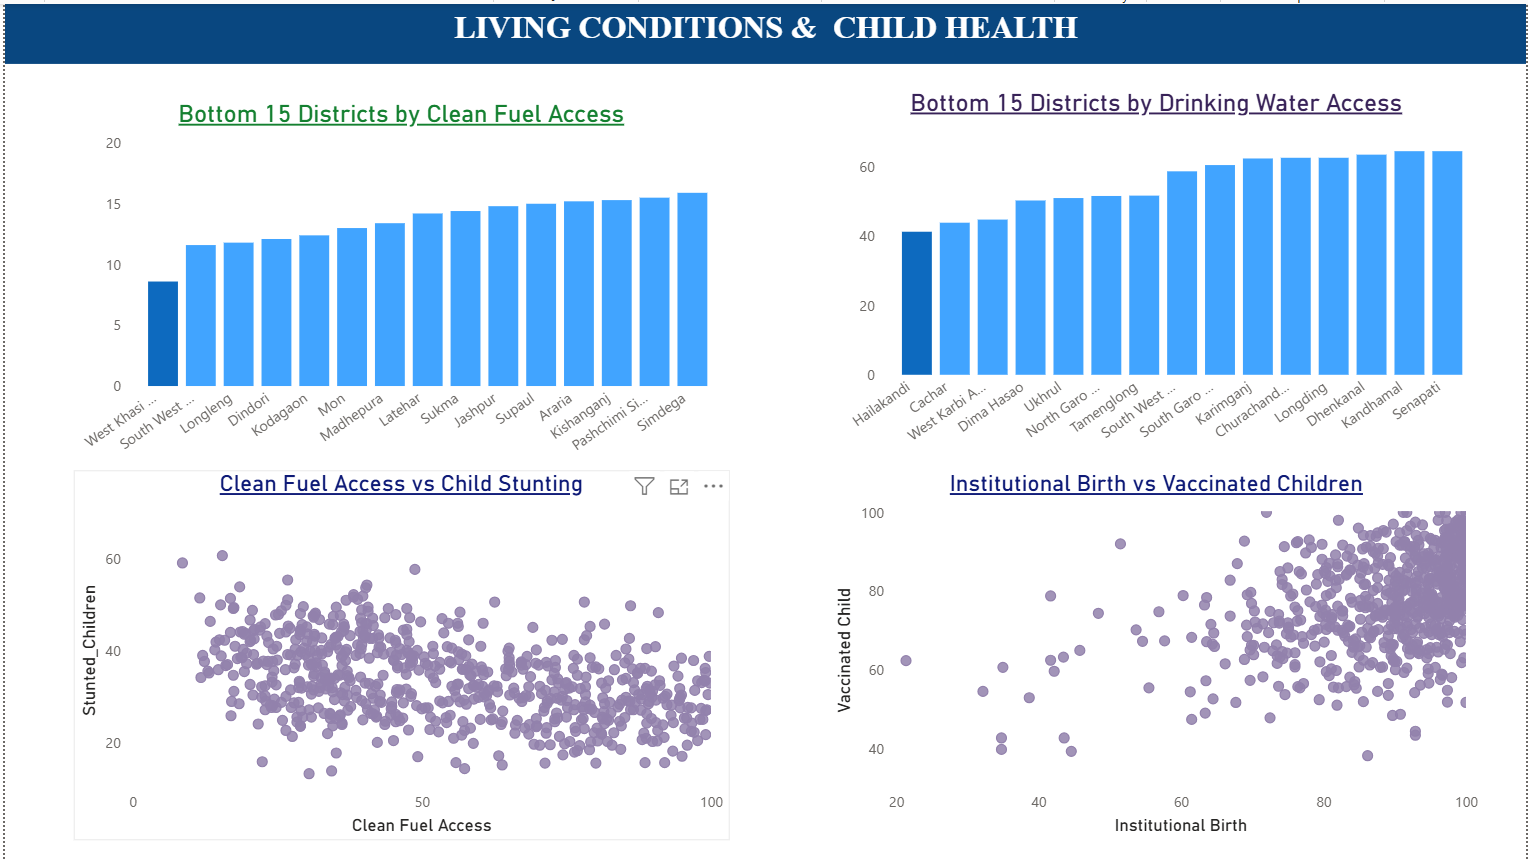

This screenshot's page, from the dashboard's own definition file:
{"tool":"powerbi","page":{"name":"Living Conditions & Child Health","canvas":[1280,720],"ordinal":3},"visuals":[{"type":"textbox","box":[0,0,1280.2,50],"z":0},{"type":"scatterChart","title":"Clean Fuel Access vs Child Stunting","fields":{"Y":["cleaned_data.Stunted_Children"],"X":["cleaned_data.Clean_Fuel"]},"box":[58.1,391.9,551.2,311.6],"z":1},{"type":"scatterChart","title":"Institutional Birth vs Vaccinated Children","fields":{"Y":["cleaned_data.Fully_Vaccinated_Child"],"X":["cleaned_data.Institutional_Births"]},"box":[693,391.9,551.2,311.6],"z":2},{"type":"columnChart","title":"Bottom 15 Districts by Drinking Water Access","fields":{"Category":["cleaned_data.District"],"Y":["Avg(cleaned_data.Drinking_Water)"]},"box":[693,70.9,551.2,311.6],"z":5},{"type":"columnChart","title":"Bottom 15 Districts by Clean Fuel Access","fields":{"Category":["cleaned_data.District"],"Y":["Avg(cleaned_data.Clean_Fuel)"]},"box":[58.1,80.2,551.2,311.6],"z":6}]}

Visuals, with their boxes in screenshot pixels (x1, y1, x2, y2), scaled from the page's 1280x720 canvas onto the 1528x860 screenshot:
textbox: x1=0, y1=0, x2=1527, y2=60
"Clean Fuel Access vs Child Stunting" scatterChart: x1=69, y1=468, x2=727, y2=840
"Institutional Birth vs Vaccinated Children" scatterChart: x1=827, y1=468, x2=1485, y2=840
"Bottom 15 Districts by Drinking Water Access" columnChart: x1=827, y1=85, x2=1485, y2=457
"Bottom 15 Districts by Clean Fuel Access" columnChart: x1=69, y1=96, x2=727, y2=468
